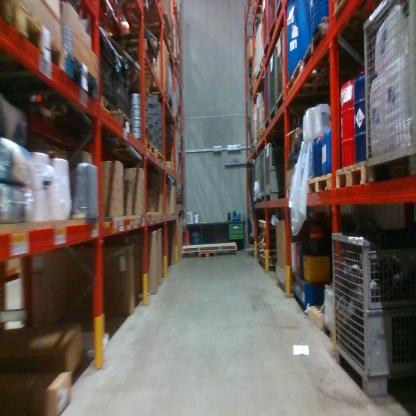pallet: (3, 54, 102, 106), (302, 15, 376, 70), (286, 58, 372, 105), (17, 5, 66, 69), (68, 109, 134, 140), (329, 1, 386, 33), (117, 37, 158, 72), (335, 159, 369, 194), (131, 17, 174, 42), (104, 139, 156, 157), (304, 170, 334, 198), (305, 300, 328, 334), (1, 1, 22, 30), (195, 246, 222, 261), (139, 89, 169, 100), (173, 2, 184, 25), (158, 100, 174, 113), (261, 246, 277, 258), (156, 149, 166, 166), (258, 219, 272, 230), (258, 255, 269, 266)
stillage: (328, 223, 414, 399), (364, 3, 416, 186), (265, 138, 289, 202), (276, 24, 285, 113), (267, 43, 276, 123), (262, 64, 270, 132), (255, 92, 263, 144), (260, 144, 267, 202), (250, 160, 258, 205), (268, 1, 276, 43), (255, 153, 261, 204), (263, 1, 268, 57), (276, 1, 285, 21)
